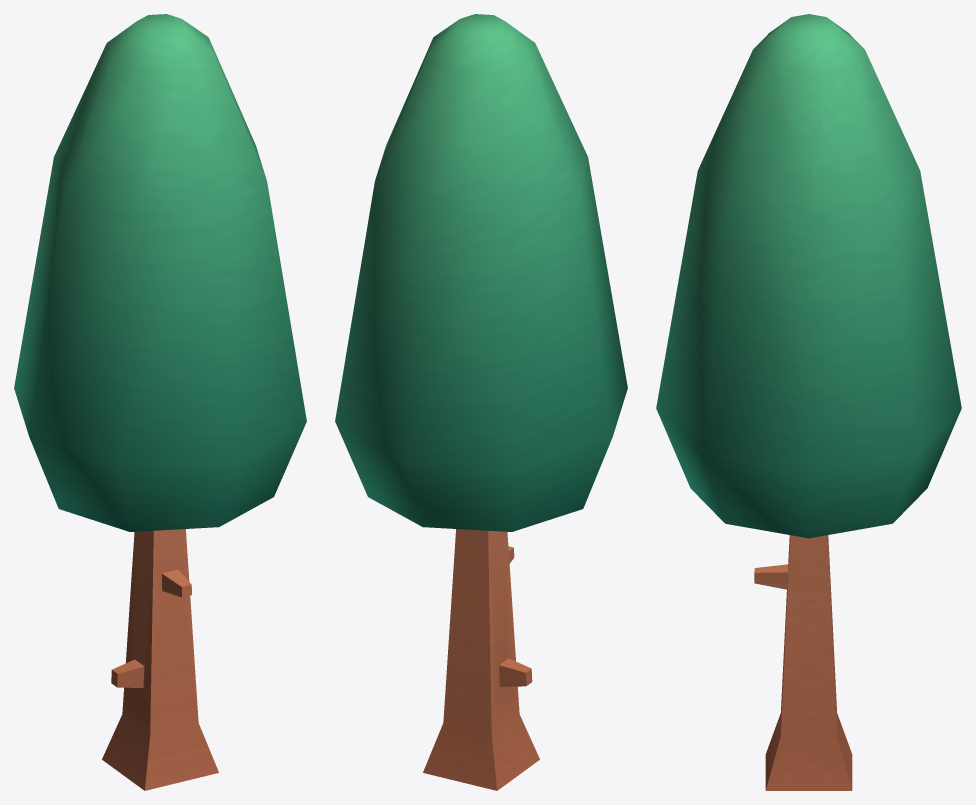
The model's file is treeHighRound.fbx.
3 views of the same model, side by side, from view 1: azimuth 30°, elevation 25°; view 2: azimuth 150°, elevation 25°; view 3: azimuth 270°, elevation 25° (orthographic).
Parts seen in each view (by area): view 1: treeHighRound; view 2: treeHighRound; view 3: treeHighRound.
Part boxes in pixels (<box>): treeHighRound: <box>14,14,306,790</box>; treeHighRound: <box>335,14,627,790</box>; treeHighRound: <box>656,14,961,790</box>.
Bounding box in the file's own units: 1.02 × 1.02 × 2.75.
